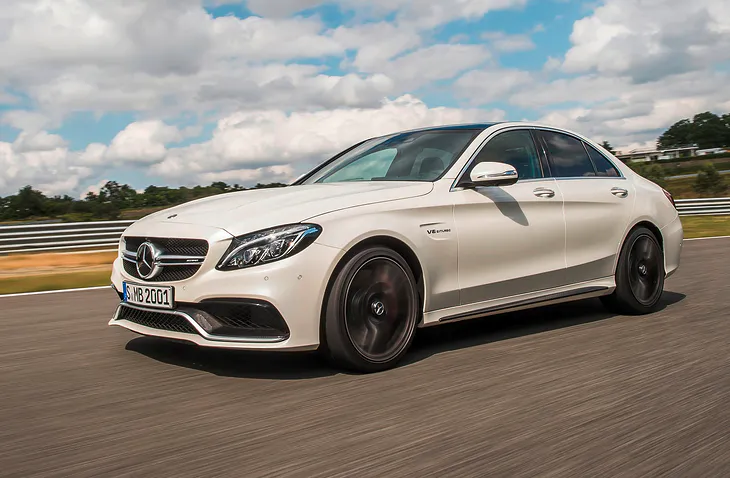tablica: (120, 281, 173, 308)
